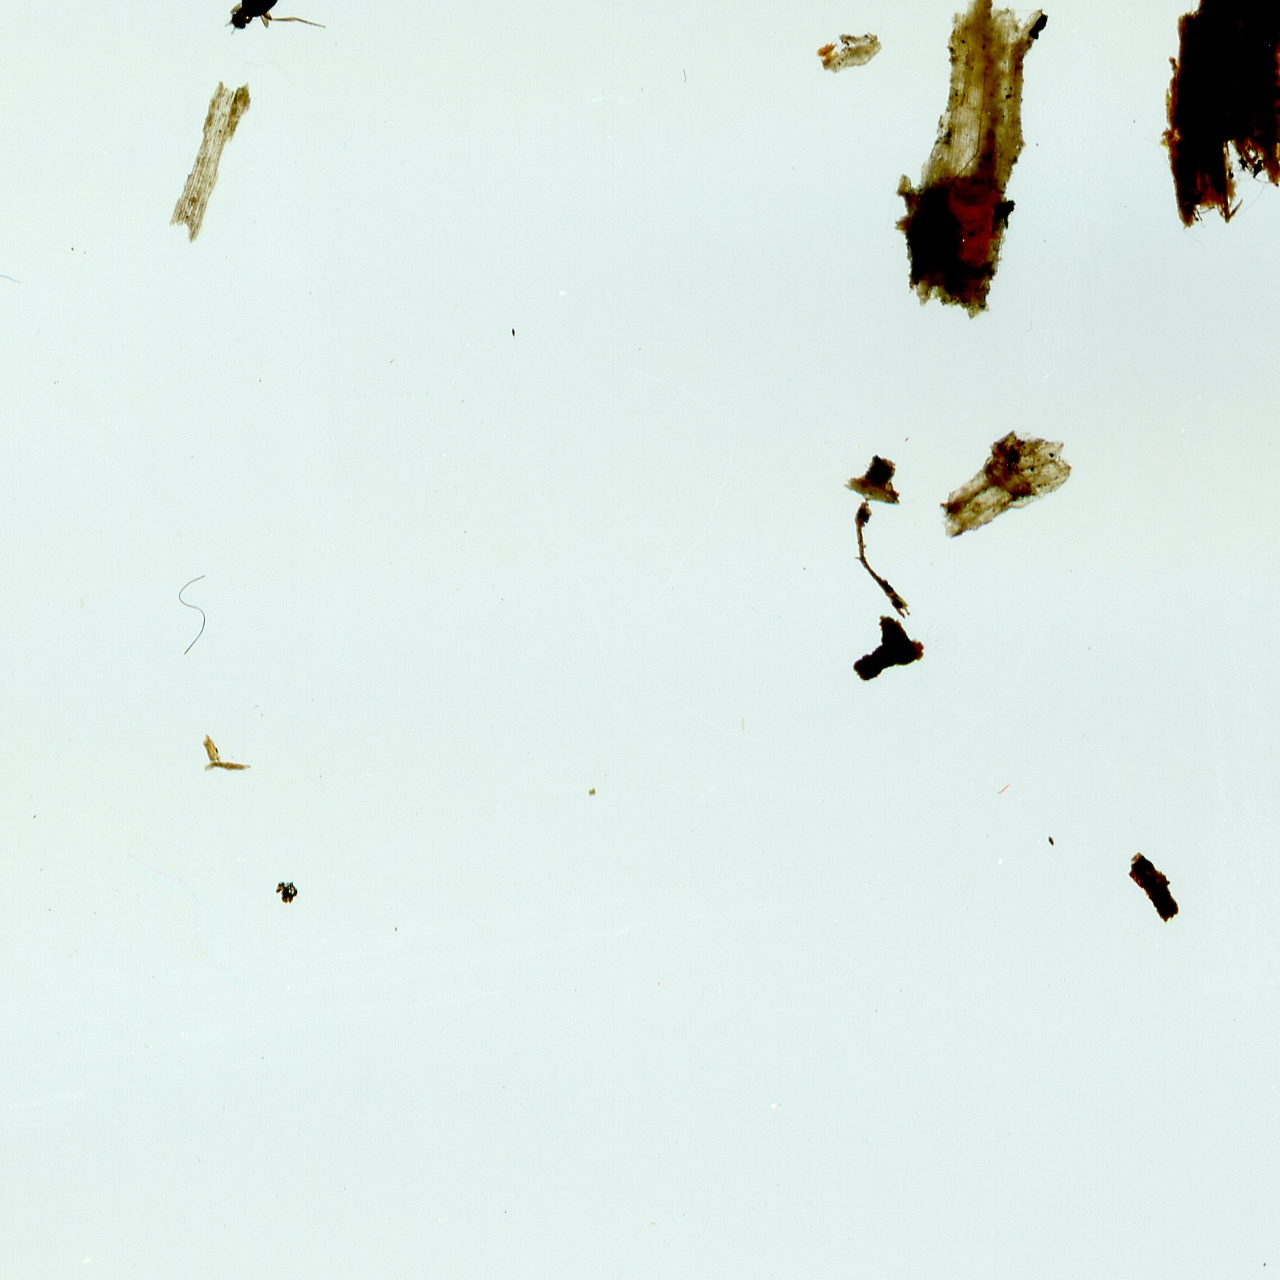arthropod: (216, 0, 332, 49)
